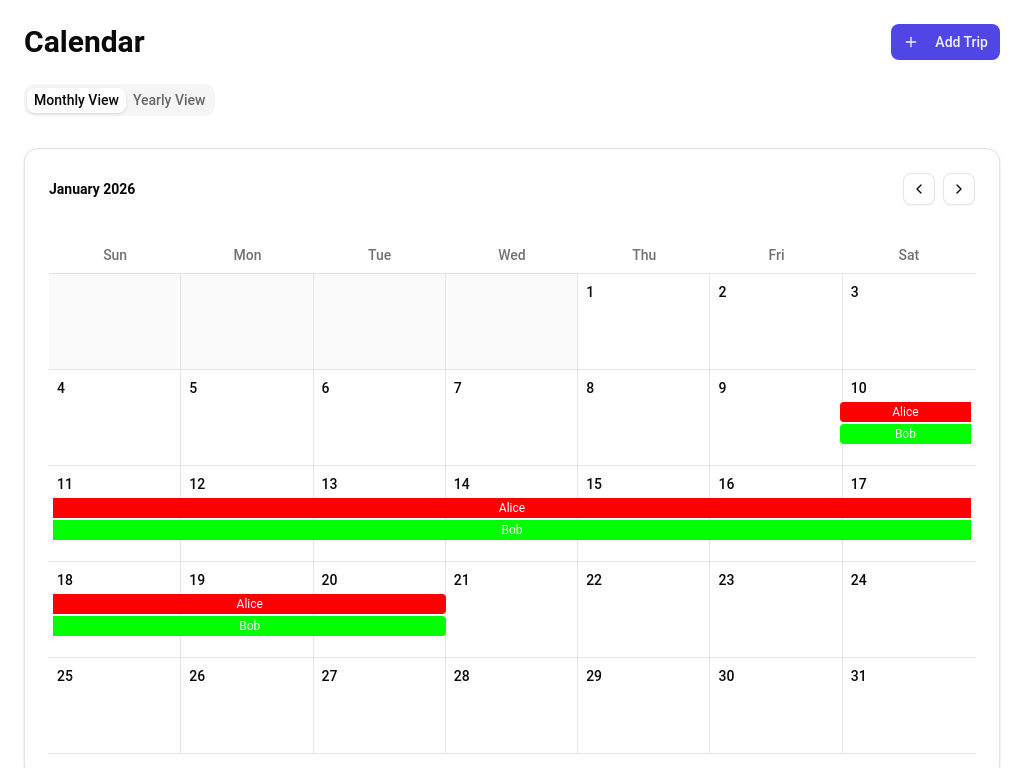
it: CalendarView › displays trip tooltip with member names and dates on hover
// Hover over the first trip element to show tooltip
Hover over the button "Alice" below "10".
mouse_move(905, 412)  # box [840,402,971,422]
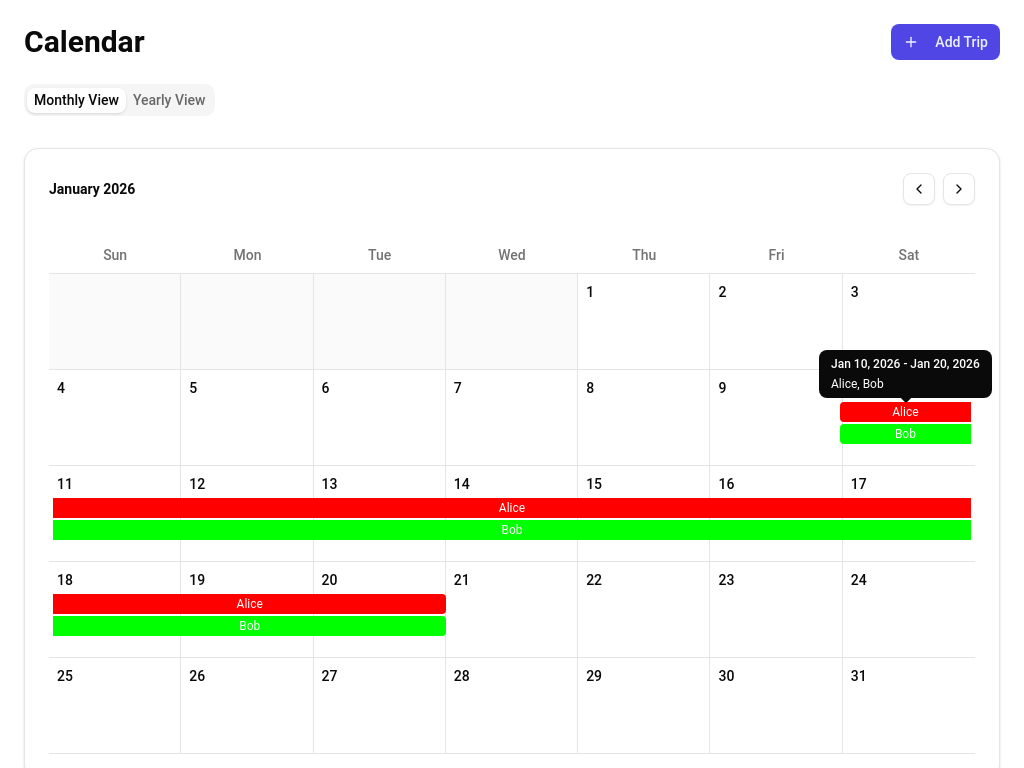
Now the text "Jan 10, 2026 - Jan 20, 2026" is shown, box [831,356,980,372]
Now the text "Alice, Bob" is shown, box [831,377,884,391]
